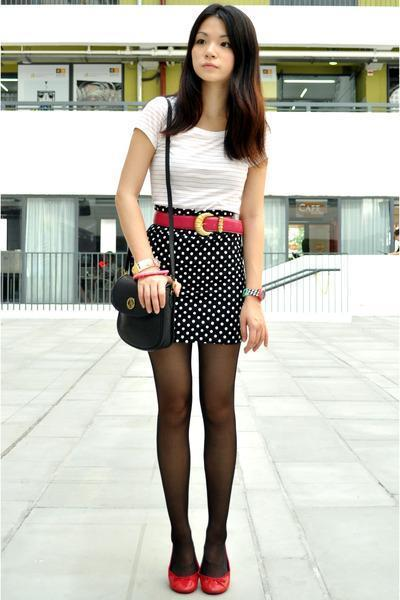bag: (111, 156, 177, 366)
shirt: (122, 96, 249, 226)
shoe: (168, 560, 229, 599)
skirt: (147, 228, 255, 344)
